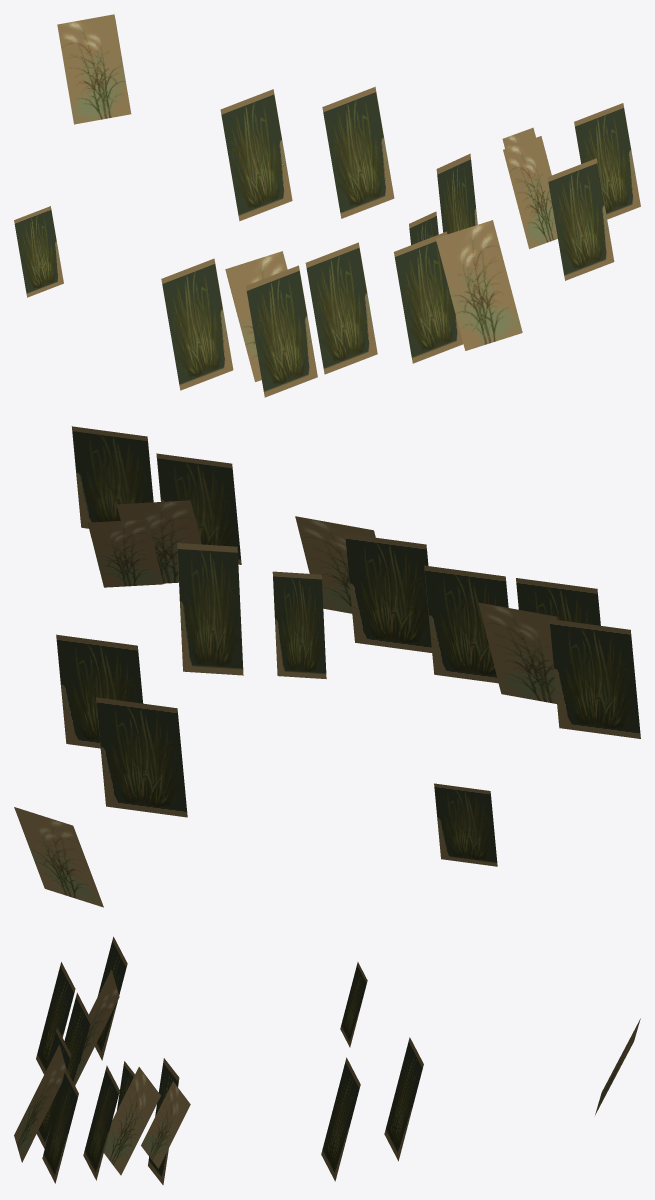
Rendered from object_grass_polys.fbx.
3 renders of one model, top to bottom at view 1: azimuth 30°, elevation 25°; view 2: azimuth 150°, elevation 25°; view 3: azimuth 270°, elevation 25°, orthographic. The views are drawn at different scales.
Visible parts, largest first — view 1: obj0.057; view 2: obj0.057; view 3: obj0.057.
Part boxes in pixels (left/top/right/bottom): obj0.057: left=14, top=14, right=640, bottom=397; obj0.057: left=14, top=426, right=640, bottom=907; obj0.057: left=14, top=936, right=640, bottom=1185.
Size of the model in its own units: 13.83 by 4.52 by 16.78.
